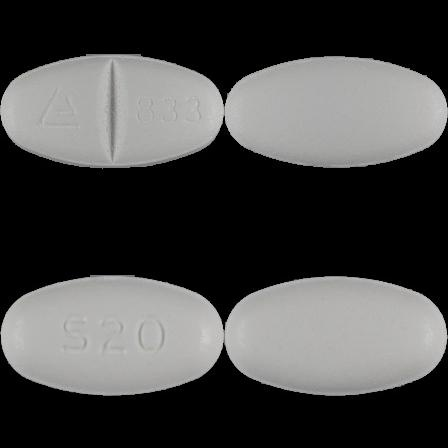60429-142: (0, 0, 224, 224)
